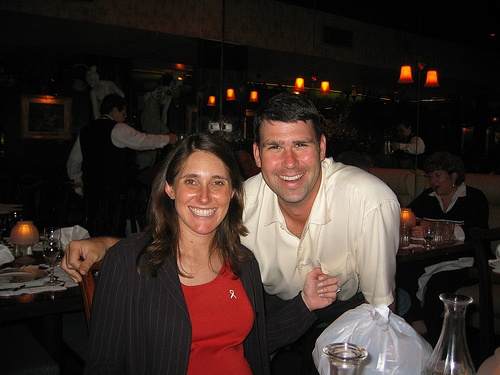head: (162, 131, 239, 235), (251, 98, 328, 202), (423, 156, 468, 202), (99, 93, 129, 129)
person: (65, 133, 331, 369), (244, 90, 396, 363), (402, 154, 495, 337), (69, 93, 175, 236), (386, 122, 426, 166), (333, 150, 370, 170)
